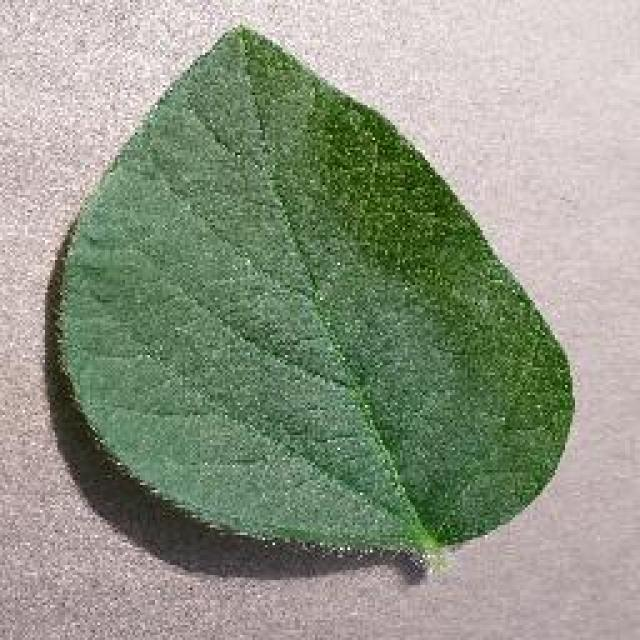Soy_healthy: (50, 58, 556, 510)
